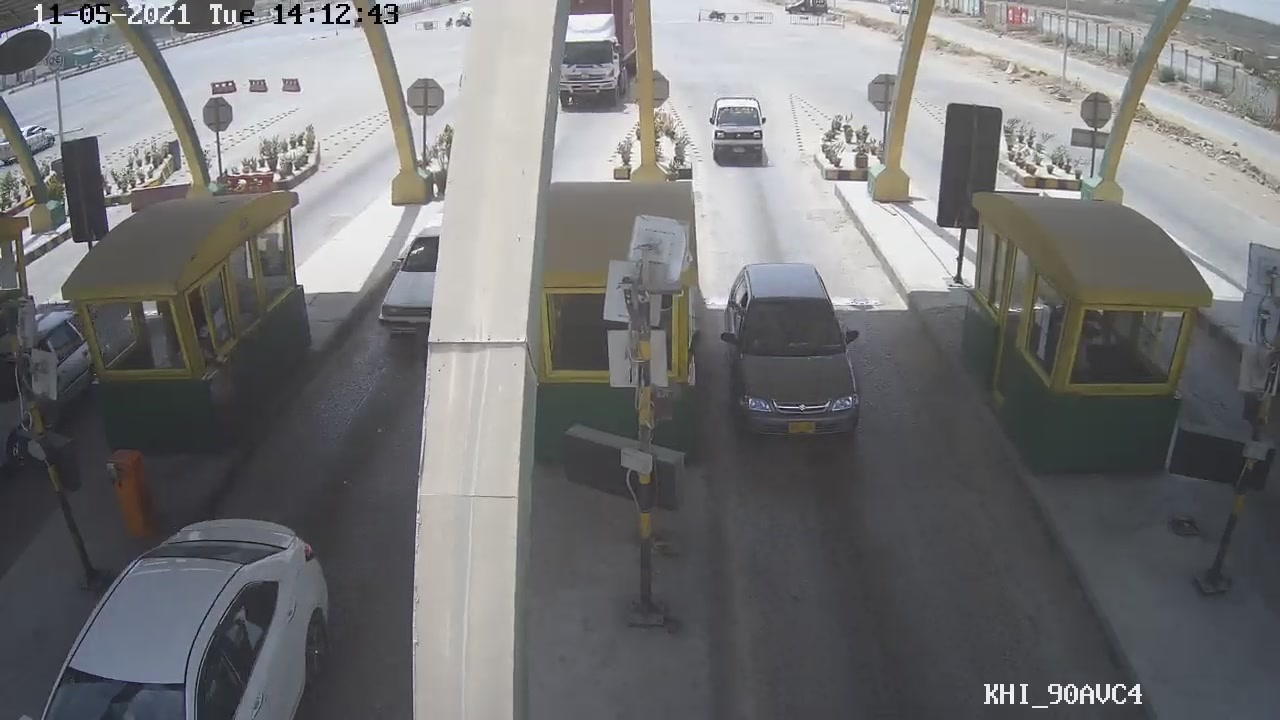F1: (714, 264, 868, 447)
